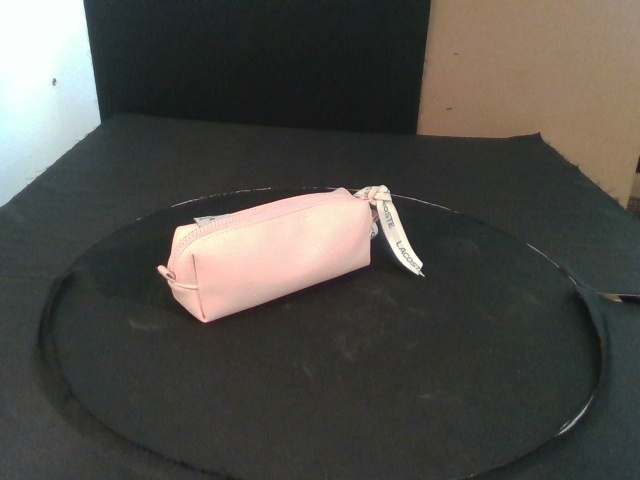pencil_case: (164, 186, 372, 323)
